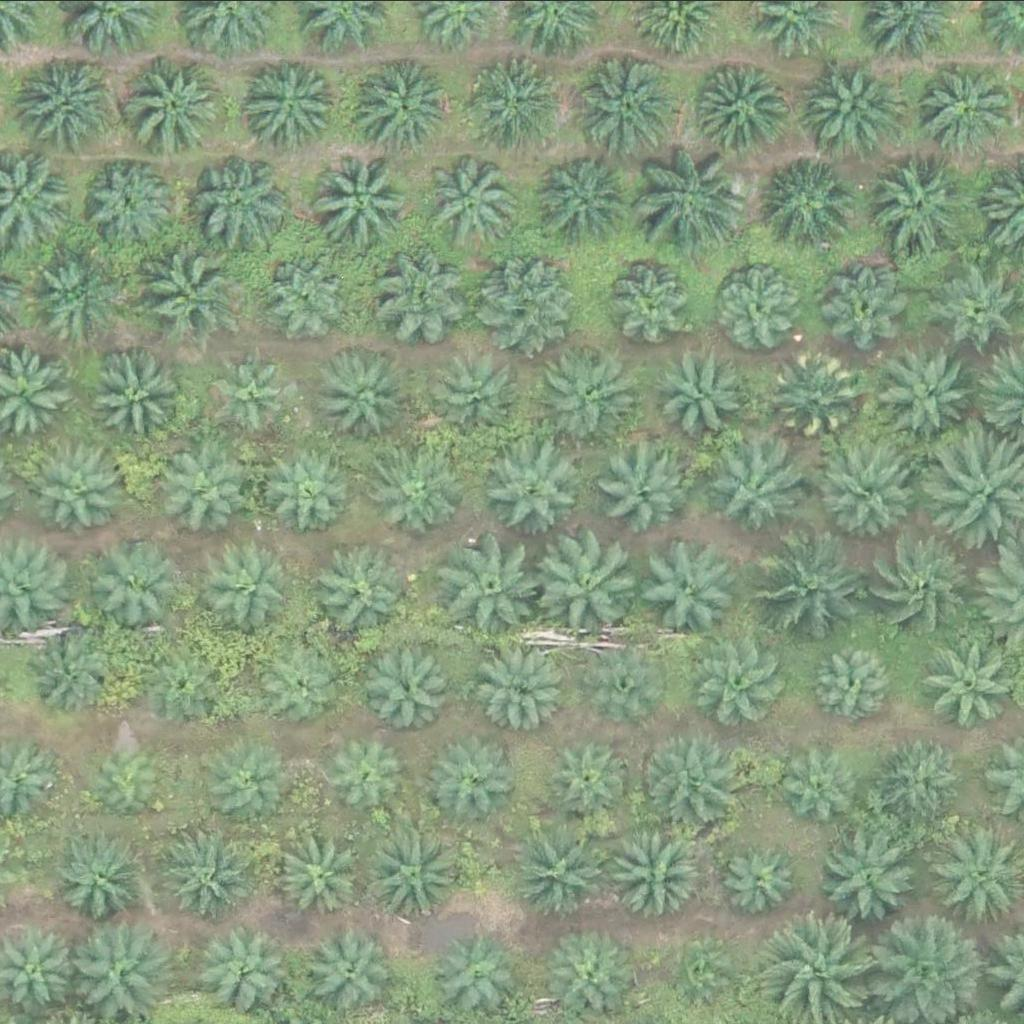Kelapa_Sawit: (535, 528, 649, 641), (639, 138, 752, 251), (759, 529, 873, 641), (764, 910, 878, 1022), (866, 533, 979, 645), (762, 151, 863, 251), (874, 155, 975, 255), (879, 340, 980, 440), (640, 529, 741, 629), (640, 735, 741, 835), (72, 917, 173, 1017), (368, 822, 469, 922), (508, 819, 609, 919), (22, 617, 123, 717), (318, 544, 419, 644), (443, 529, 544, 629), (155, 439, 256, 539), (538, 345, 639, 445), (89, 344, 190, 444), (22, 247, 123, 347), (133, 244, 234, 344), (371, 245, 472, 345), (475, 247, 576, 347), (310, 144, 411, 244), (425, 151, 526, 251), (534, 147, 635, 247), (577, 53, 678, 153), (353, 54, 454, 154), (124, 52, 225, 152), (696, 56, 796, 156), (801, 55, 901, 155), (822, 446, 922, 546), (607, 821, 707, 921), (823, 827, 923, 927), (481, 438, 581, 538), (192, 154, 292, 254), (464, 46, 564, 146), (240, 51, 340, 151), (11, 44, 111, 144), (810, 640, 899, 728), (61, 830, 150, 918), (600, 448, 688, 536), (716, 447, 804, 535), (700, 632, 788, 720), (773, 738, 861, 826), (207, 928, 295, 1016), (308, 924, 396, 1012), (437, 932, 525, 1020), (167, 830, 255, 918), (146, 634, 234, 722), (94, 543, 182, 631), (206, 547, 294, 635), (38, 446, 126, 534), (271, 449, 359, 537), (315, 347, 403, 435), (265, 252, 353, 340), (208, 354, 297, 441), (920, 61, 1008, 148), (614, 258, 702, 345), (723, 261, 811, 348), (822, 258, 910, 345), (775, 351, 863, 438), (660, 352, 748, 439), (878, 736, 966, 823), (553, 926, 641, 1013), (281, 828, 369, 915), (545, 733, 633, 820), (427, 733, 515, 820), (323, 726, 411, 813), (200, 738, 288, 825), (263, 639, 351, 726), (372, 640, 460, 727), (480, 643, 568, 730), (378, 451, 466, 538), (436, 353, 524, 440), (86, 158, 174, 245), (94, 740, 170, 815), (723, 841, 799, 916), (590, 641, 666, 716), (667, 943, 730, 1005)
